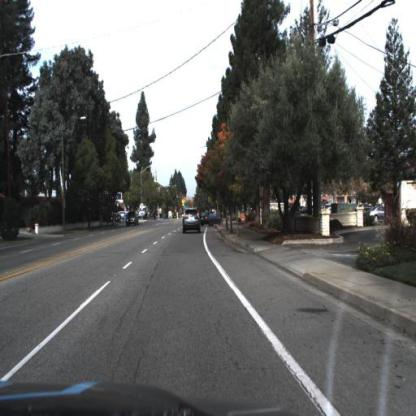car: (182, 208, 203, 239), (122, 211, 143, 232), (201, 211, 223, 229)
